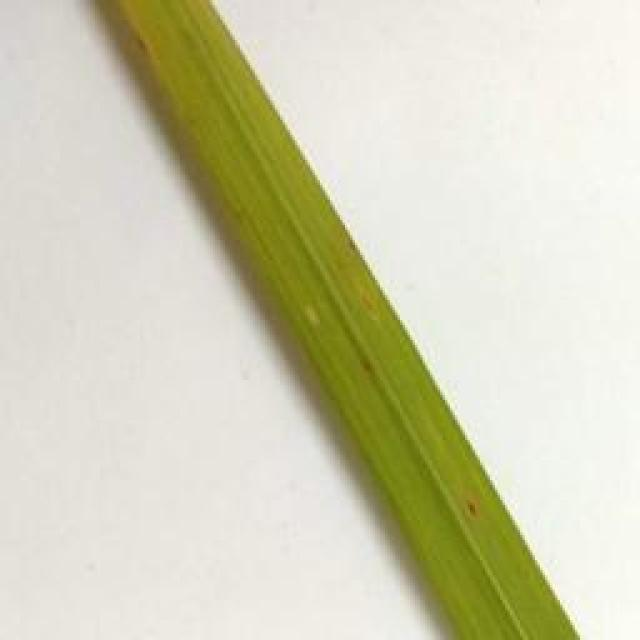Brown_Spot: (343, 227, 371, 264), (129, 31, 160, 62), (458, 499, 486, 529), (348, 346, 376, 375)
